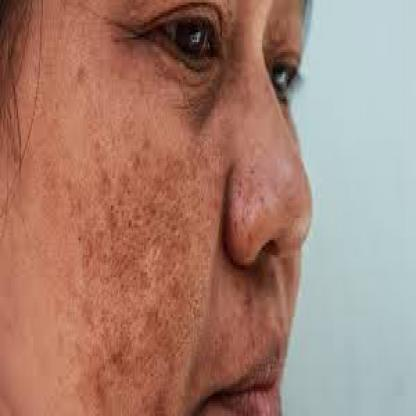darkspot: (79, 124, 200, 396), (227, 116, 272, 231), (46, 52, 98, 87)
